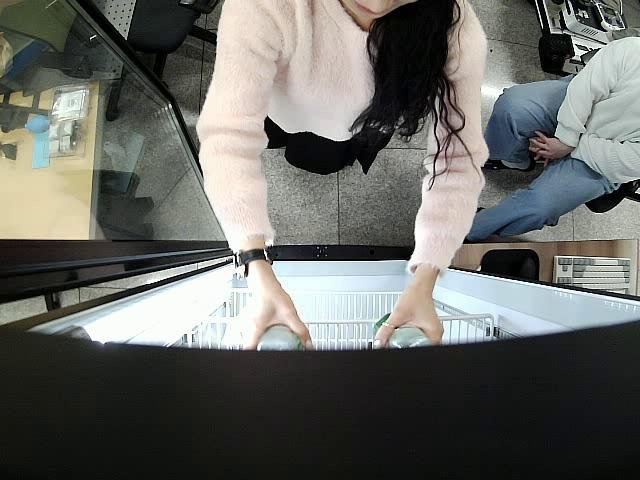18_trevi: (374, 312, 430, 346), (253, 323, 301, 348)
